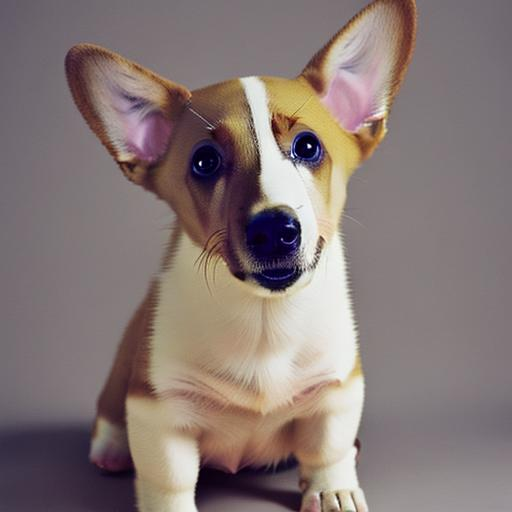eye: (189, 140, 230, 178), (290, 128, 326, 171)
